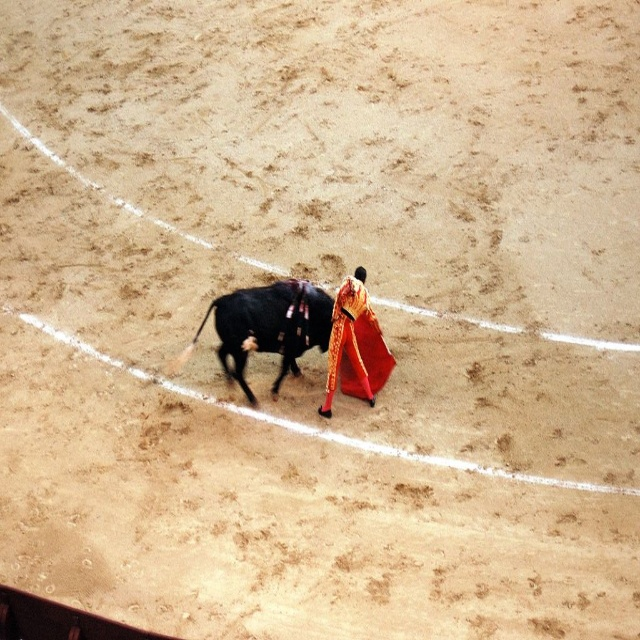Bull: (188, 278, 332, 418)
